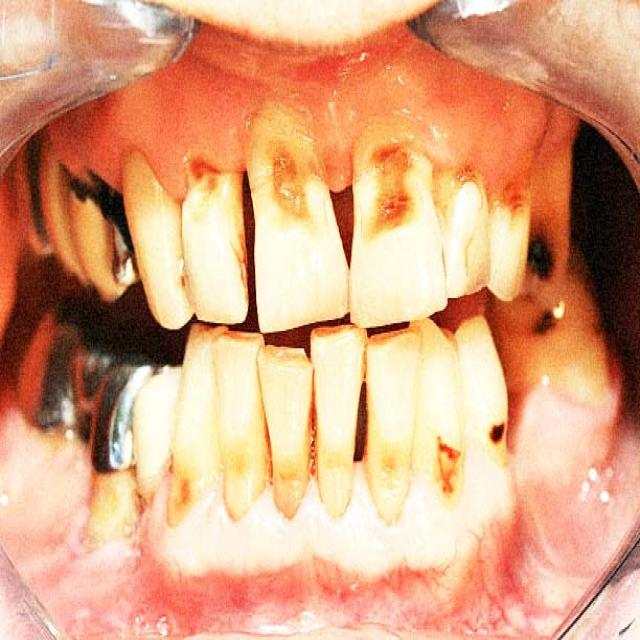caries: (343, 116, 435, 260), (246, 98, 332, 237), (83, 452, 149, 549), (363, 424, 416, 523), (161, 447, 218, 538), (177, 142, 239, 221), (221, 431, 269, 526), (428, 417, 476, 508), (431, 156, 483, 240), (265, 434, 312, 524), (491, 159, 537, 241), (523, 295, 569, 364), (520, 215, 558, 288), (479, 403, 515, 462)
